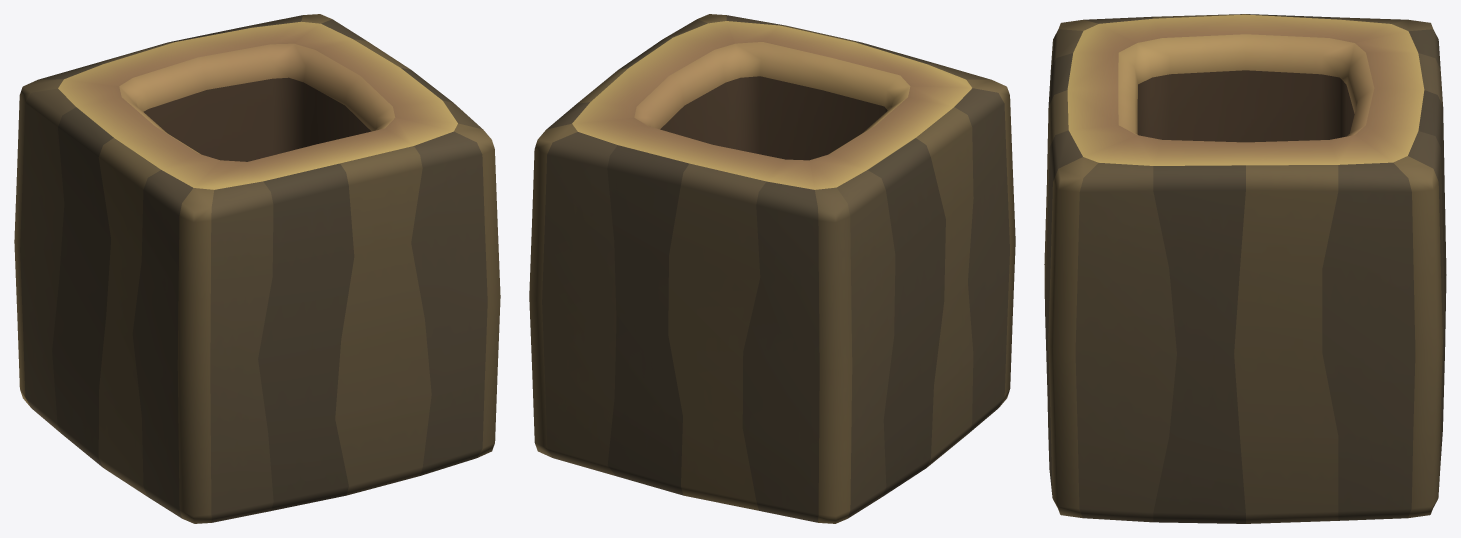
The model's file is wooden_cubes2.fbx.
3 renders of one model, left to right at view 1: azimuth 30°, elevation 25°; view 2: azimuth 150°, elevation 25°; view 3: azimuth 270°, elevation 25°, orthographic. The views are drawn at different scales.
Visible parts, largest first — view 1: wooden_cubes2; view 2: wooden_cubes2; view 3: wooden_cubes2.
Boxes of the visible parts, x1,y1,x2,y2 form: wooden_cubes2: (14,14,500,523); wooden_cubes2: (529,14,1015,523); wooden_cubes2: (1044,14,1446,523).
Size of the model in its own units: 10857 by 10784 by 10861.
1 material, 1 textured.
